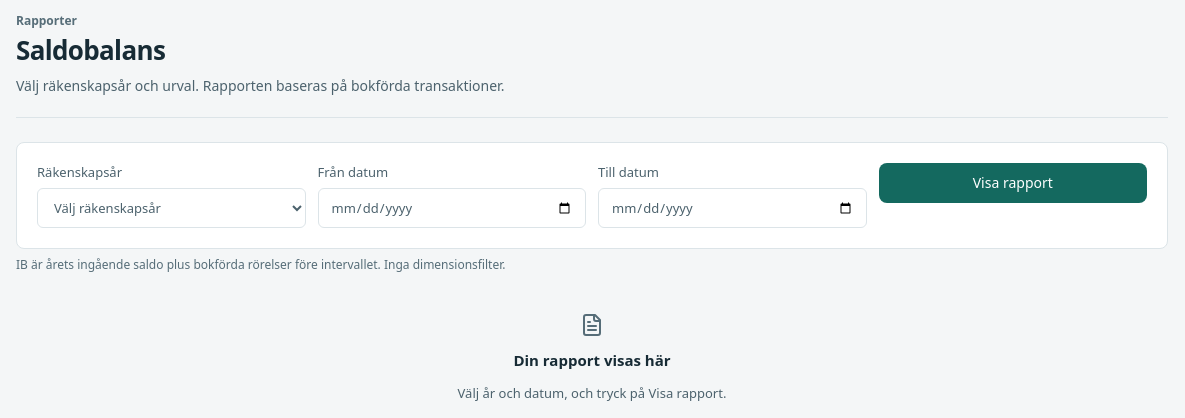
Scenario: shows invalid-IB errors without displaying a report
This screenshot has width=1185, height=418.
Select "2026 · Öppet" in the dropdown labelled "Räkenskapsår": (171, 208) [37,188,306,228]
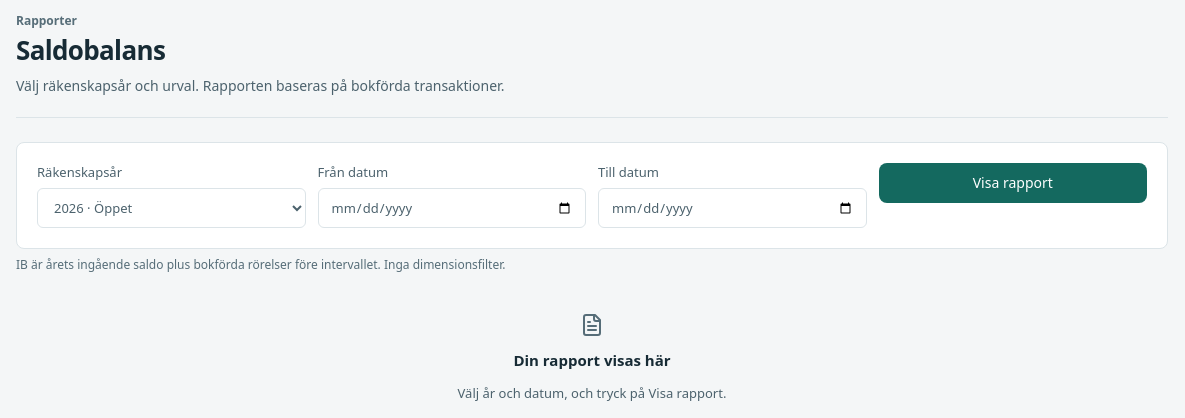
In the date field labelled "Från datum": (452, 208) [318,188,586,228], type "2026-01-01"
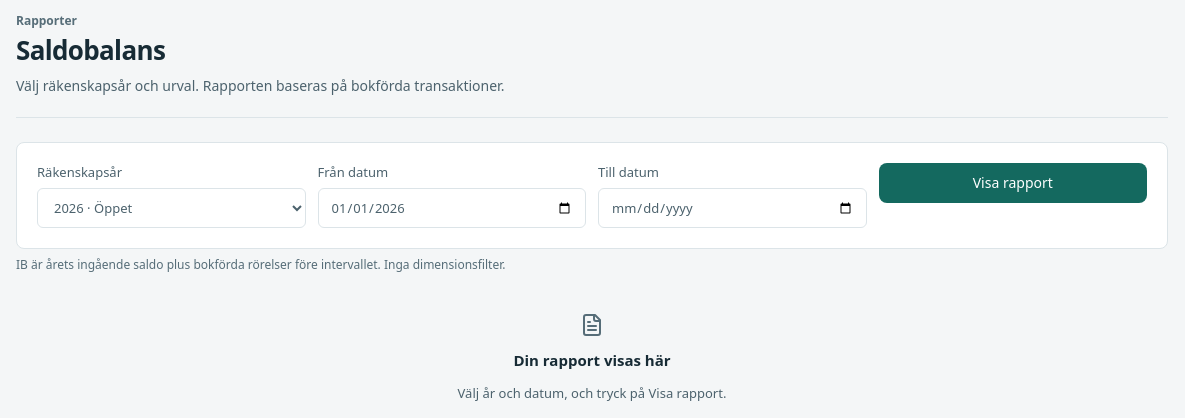
In the date field labelled "Till datum": (732, 208) [598,188,866,228], type "2026-12-31"
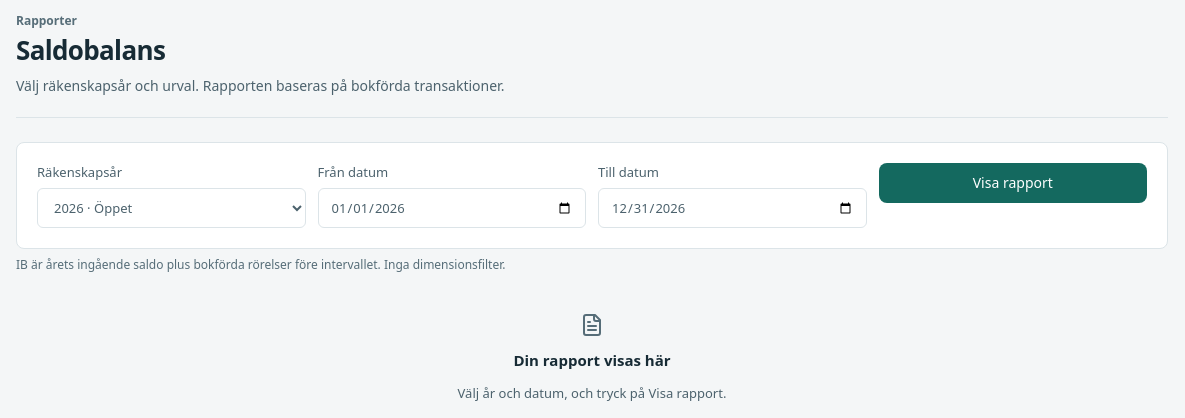
Click the button "Visa rapport": (1013, 183) [878,163,1147,203]
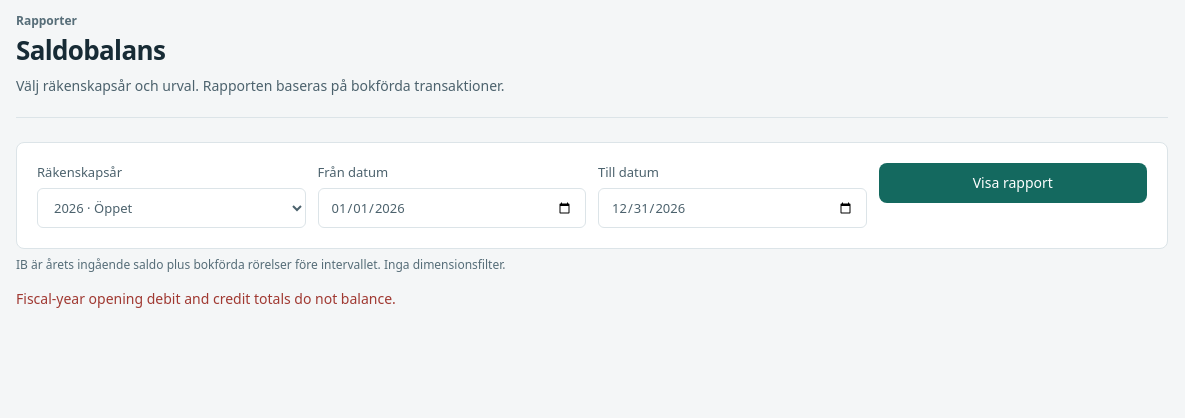
expect the message shows "do not balance": met, box [16,289,396,308]
